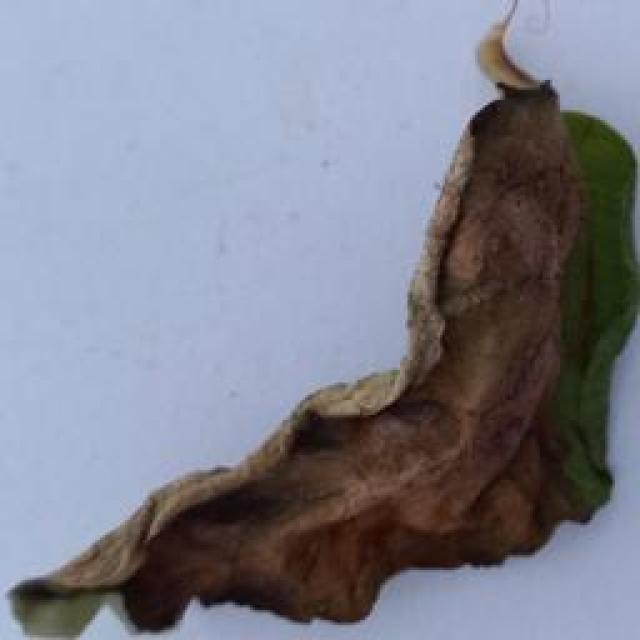Potato_Late_Blight: (13, 4, 607, 634)
